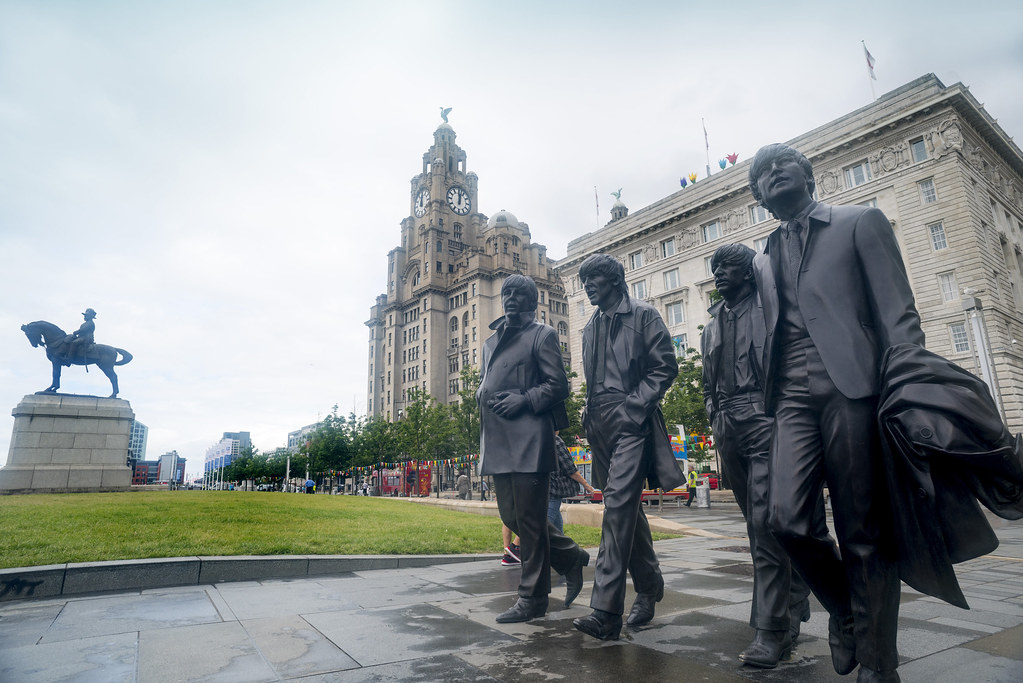person-like: (742, 139, 1006, 683), (571, 251, 691, 643), (470, 269, 593, 628), (694, 239, 806, 623), (59, 304, 99, 372)
